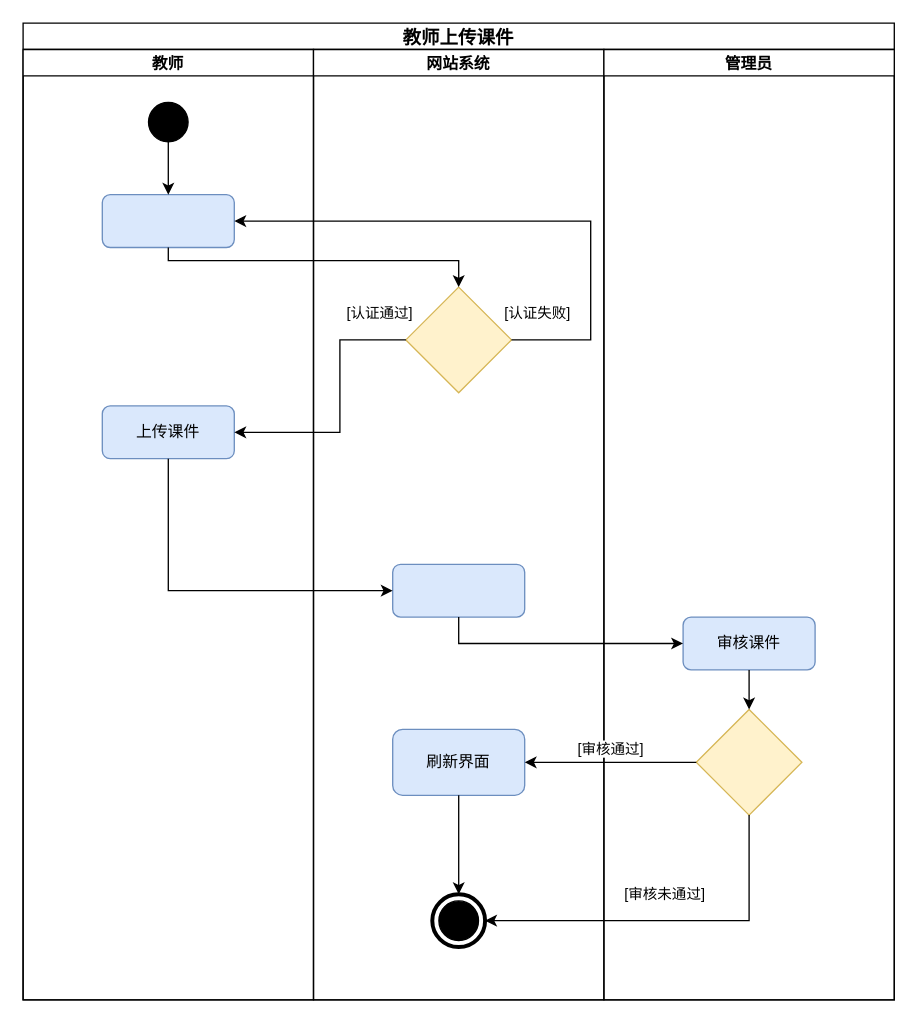
The diagram is 917 pixels wide and 1023 high, and some of its shapes have lost their labels. The shapes that lost their labels are listed below. From the top down, each one's centre as x and y in pixels, then its label:
the point at 167,220: 登录网站
the point at 458,339: 网站认证
the point at 458,590: 存储课件
the point at 748,761: 审核结果
